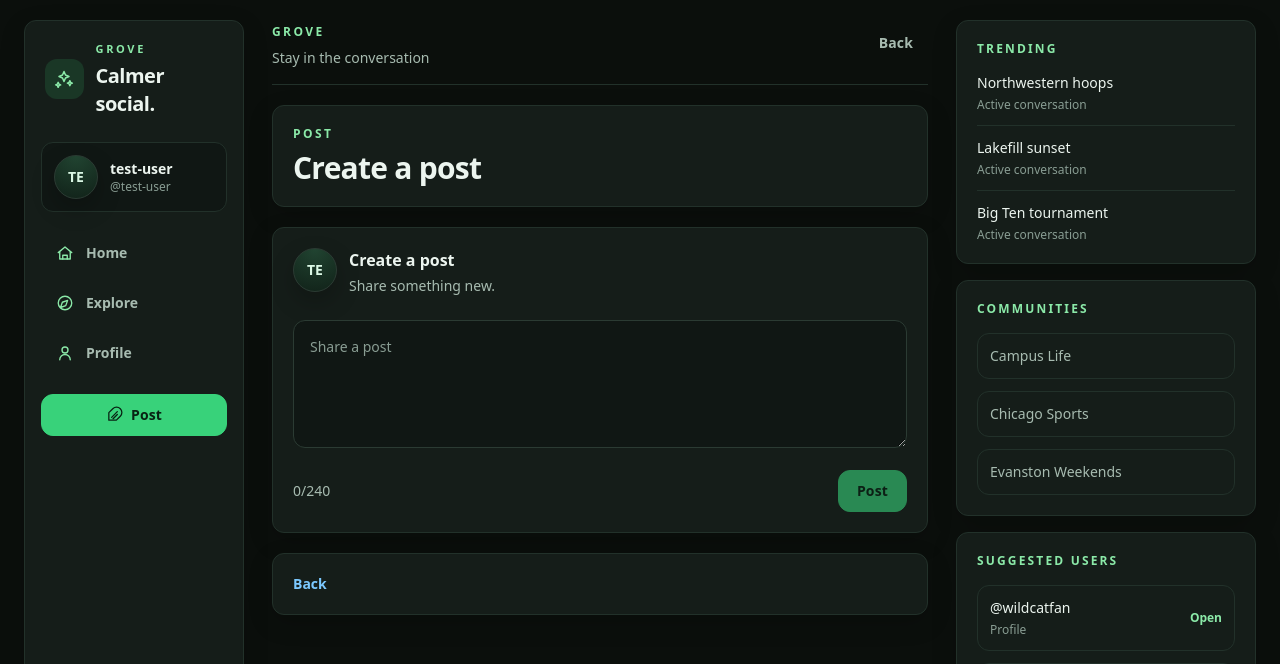
Test: PostTweetPage › shows inline error on 400 response
This screenshot has width=1280, height=664.
Type "hello world" into the text box named "post text" at coordinates (600, 384), box [293,320,907,448]
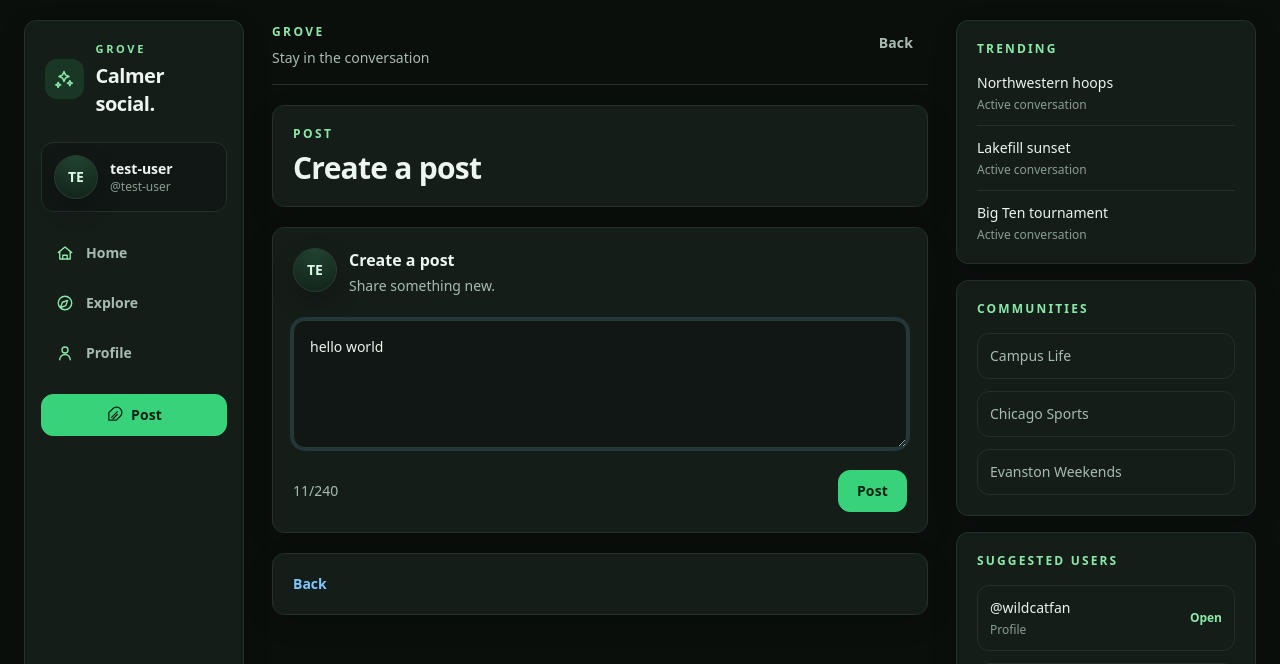
Click the button "Post" in the row of "240" at coordinates (872, 491), box [838,470,907,512]
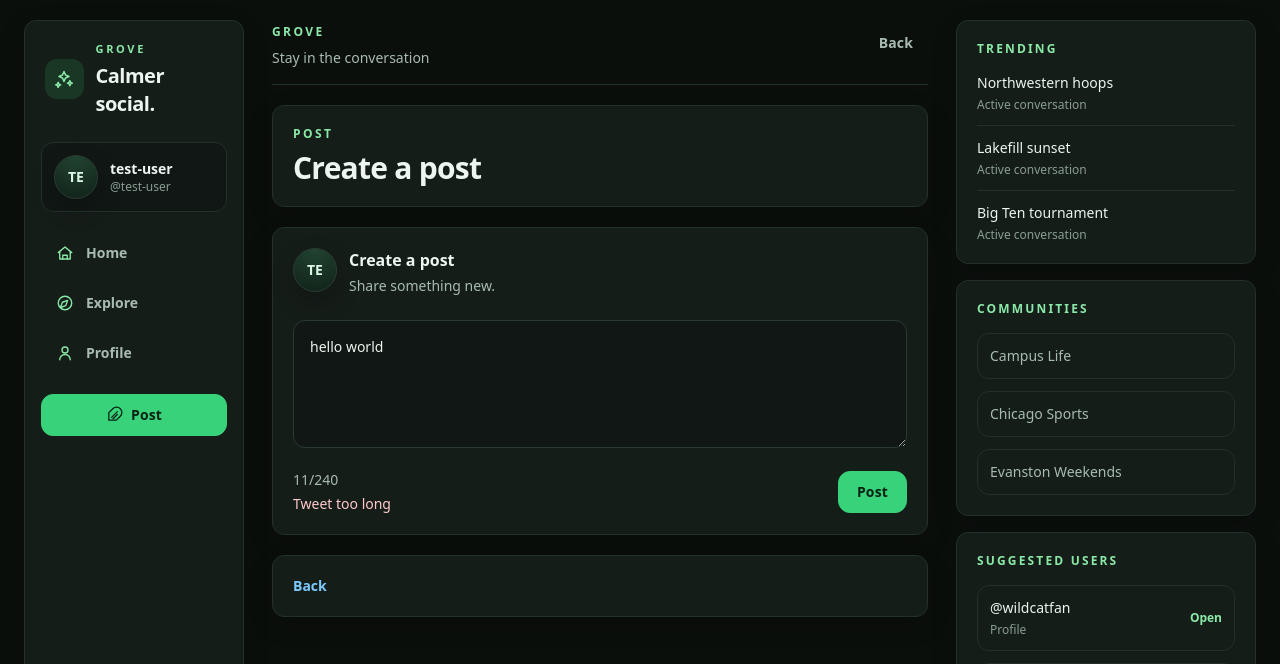
Expected: the message shows "too long", [293,494,391,513]
